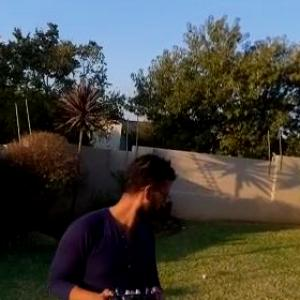follow: (42, 147, 180, 299)
